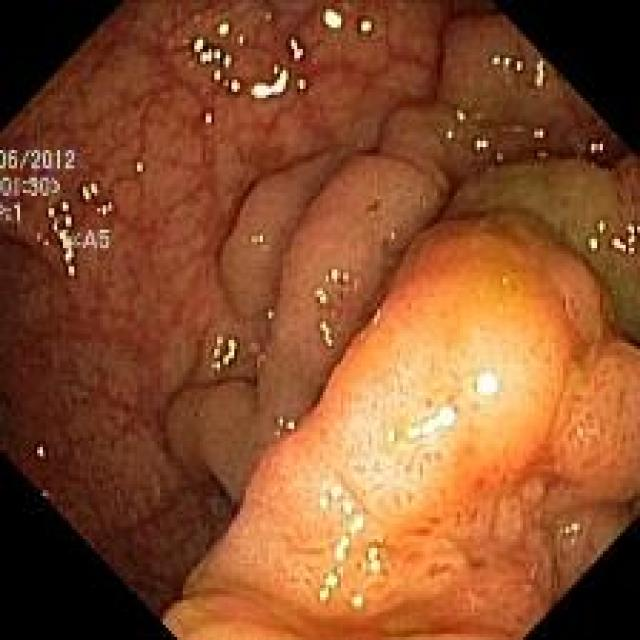Polyps: (166, 104, 640, 638)
